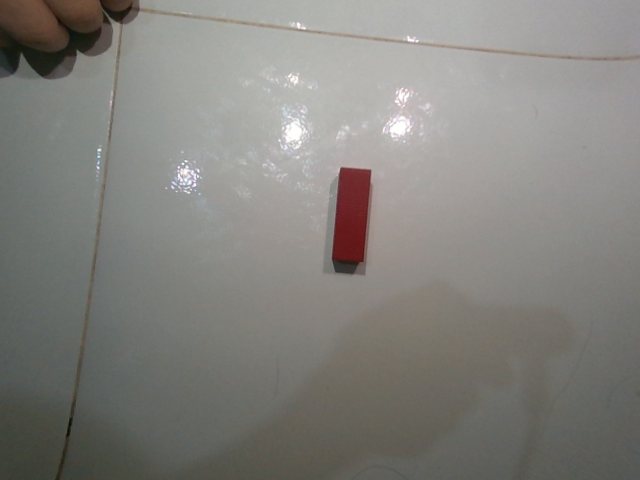Balok-Merah-Marun: (331, 166, 373, 274)
